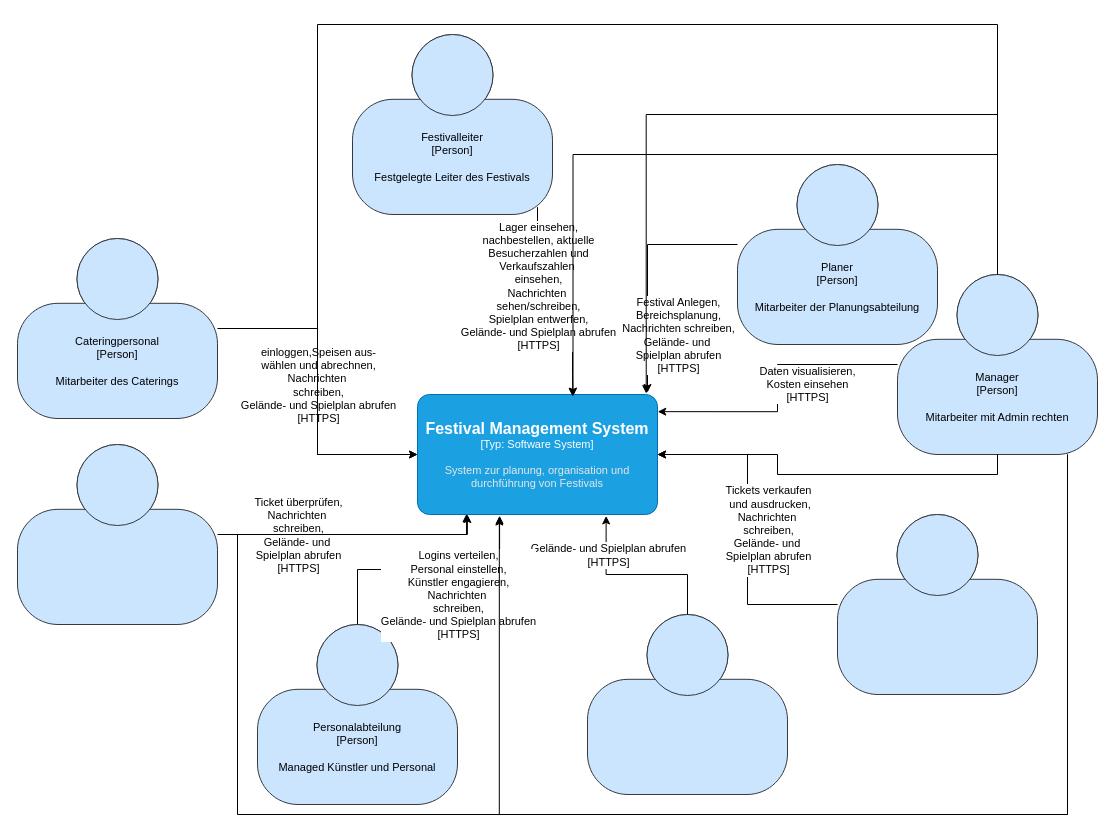
Some shapes in this 1115 by 840 pixel diagram are drawn without their labels. The shapes that lost their labels are listed below. From the top down, each one's centre as x and y in pixels, then its label:
At (x=117, y=534): "Sicherheitspersonal [Person] Mitarbeiter des Sicherungspersonals".
At (x=937, y=604): "Verkaufsmitarbeiter [Person] Mitarbeiter im Verkauf".
At (x=687, y=704): "Gast [Person] anonymer Gast auf dem Festival".
